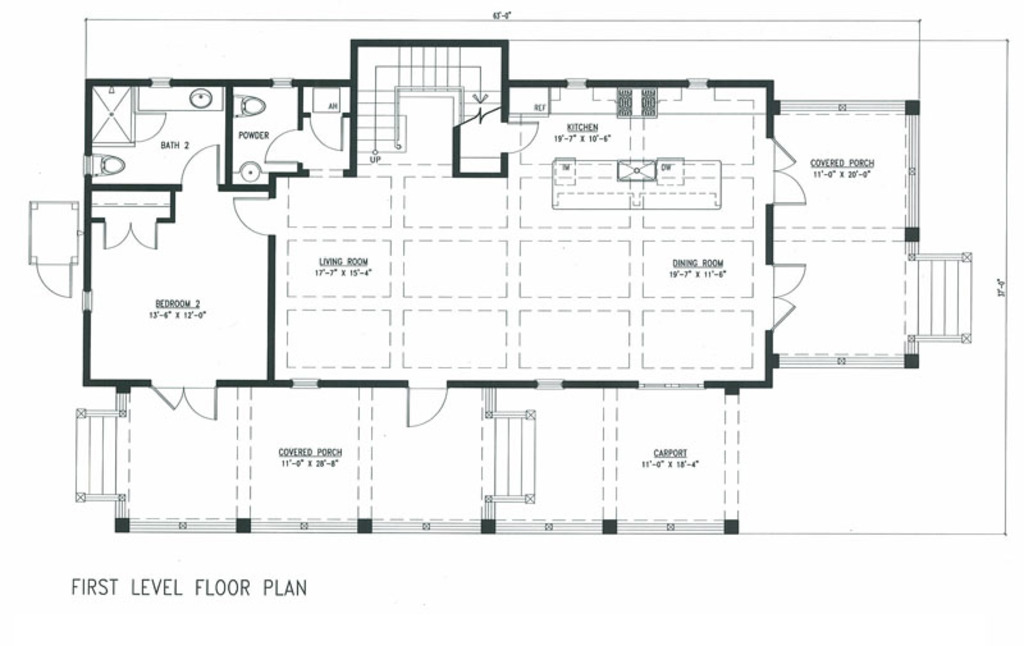door: (145, 375, 218, 423), (766, 134, 809, 210), (772, 260, 807, 330), (405, 382, 454, 429), (102, 216, 160, 253), (231, 192, 273, 240), (179, 145, 222, 188), (35, 258, 77, 301), (262, 130, 309, 166), (307, 113, 348, 152), (503, 116, 540, 155), (131, 110, 168, 141)
kitchen_bar: (548, 158, 728, 213)
large_sink: (229, 92, 268, 122), (92, 149, 129, 180)
small_sink: (183, 88, 223, 113)
stairs: (351, 41, 503, 171), (907, 251, 977, 345), (479, 410, 538, 506), (77, 410, 133, 501)
windows: (531, 375, 566, 394), (564, 75, 592, 97), (288, 377, 322, 393), (681, 76, 711, 91)
